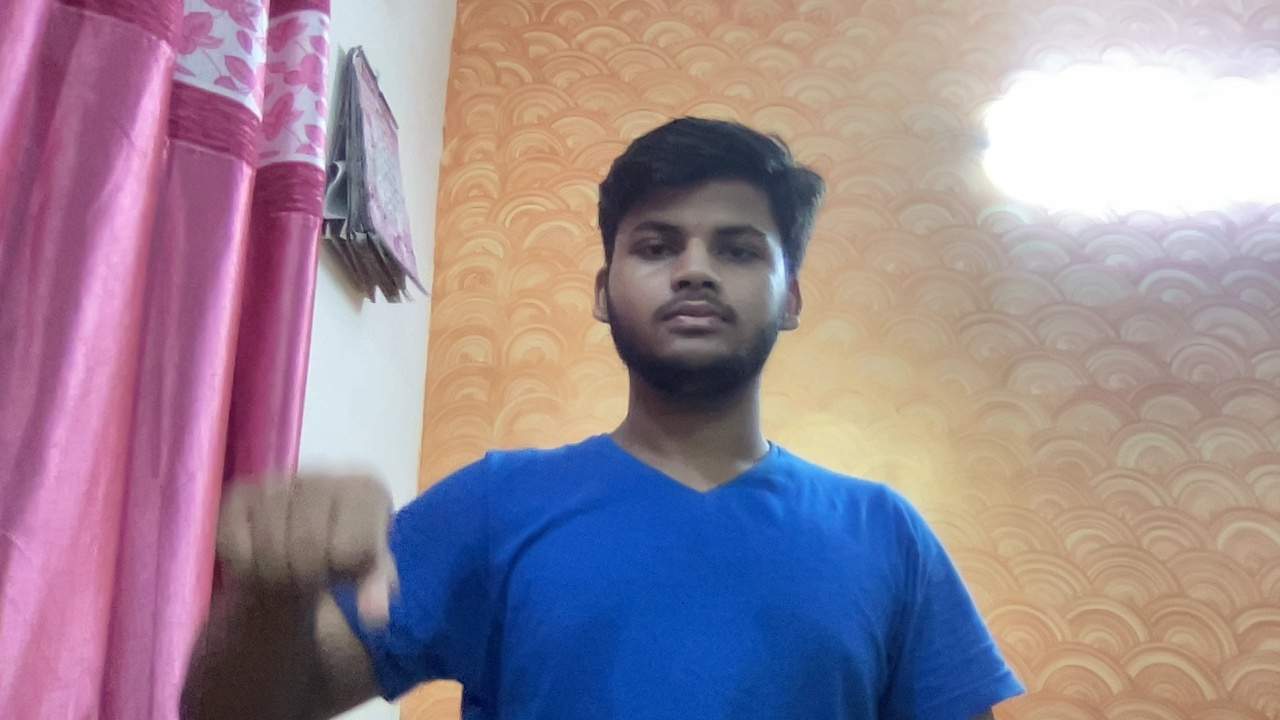yes: (177, 453, 499, 662)
